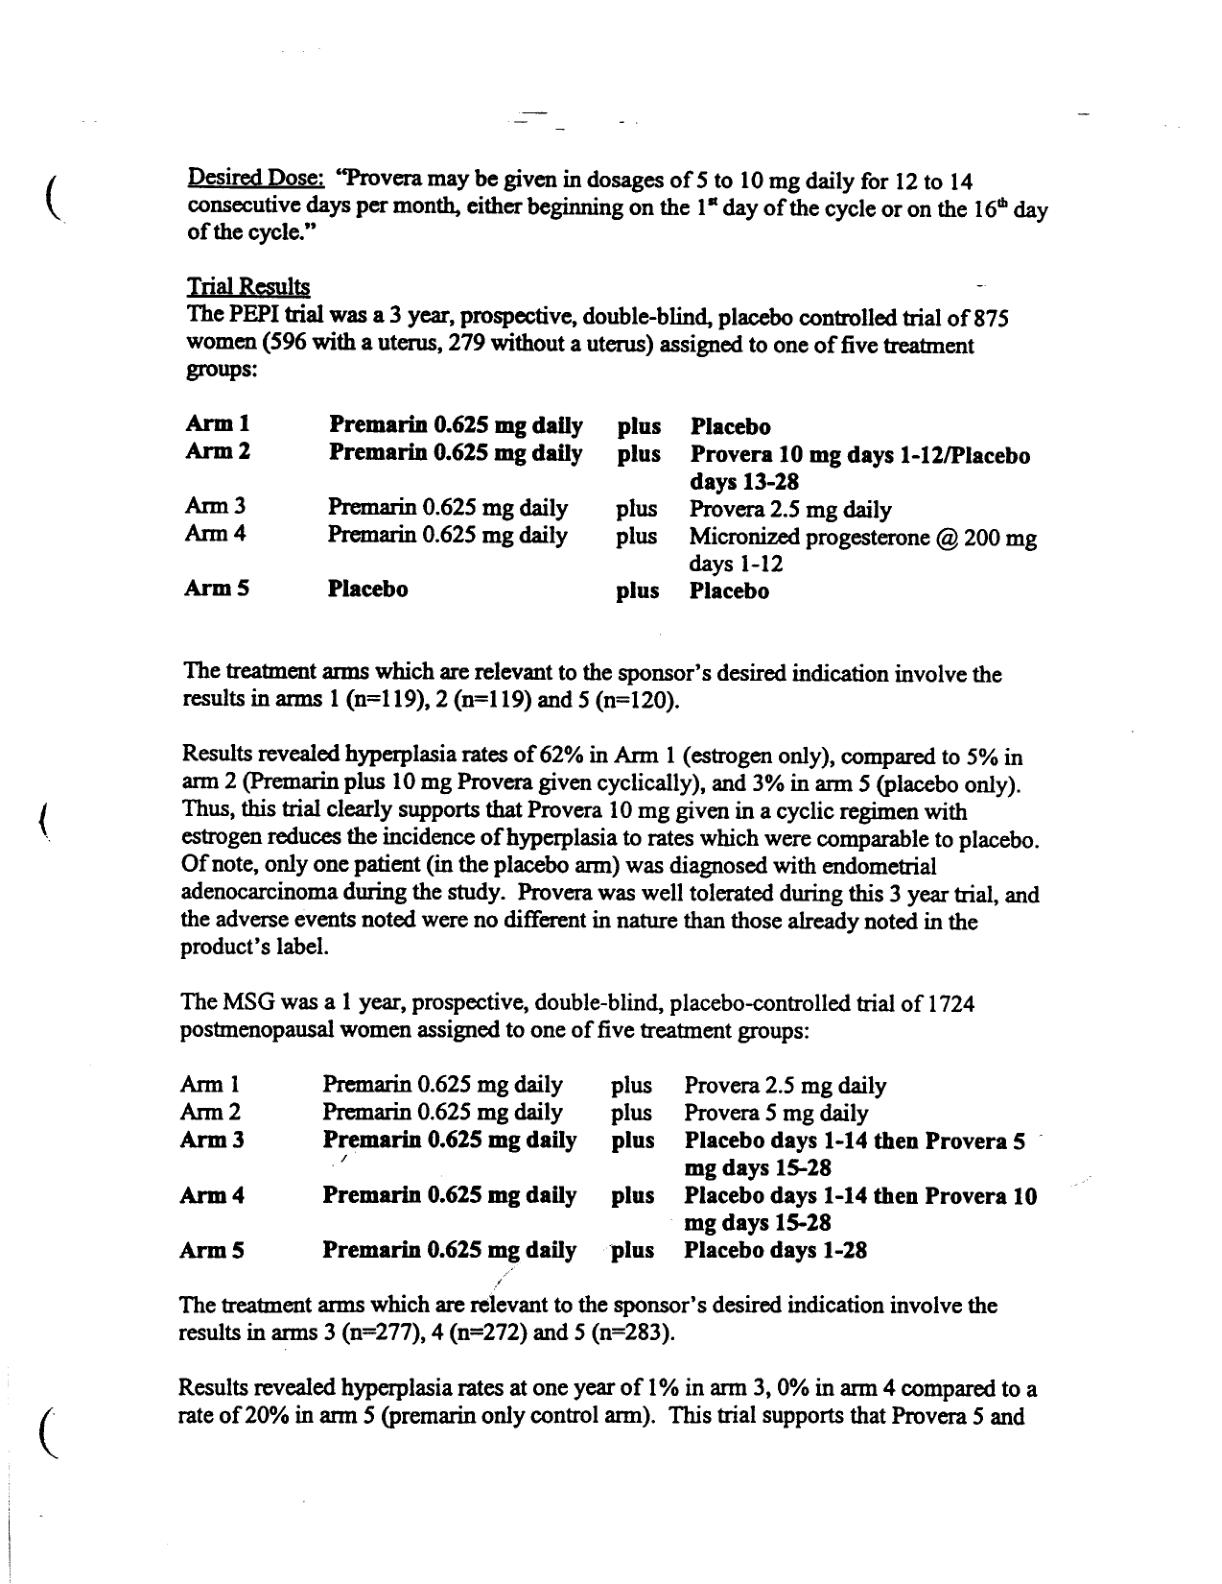nolines: (181, 413, 1038, 603), (176, 1072, 1037, 1261)
